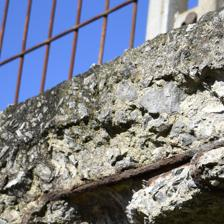Crack: (0, 87, 92, 135), (41, 61, 119, 94)
